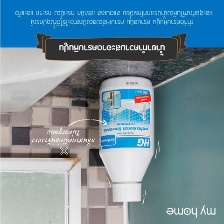cleaning_solution: (96, 72, 158, 203)
